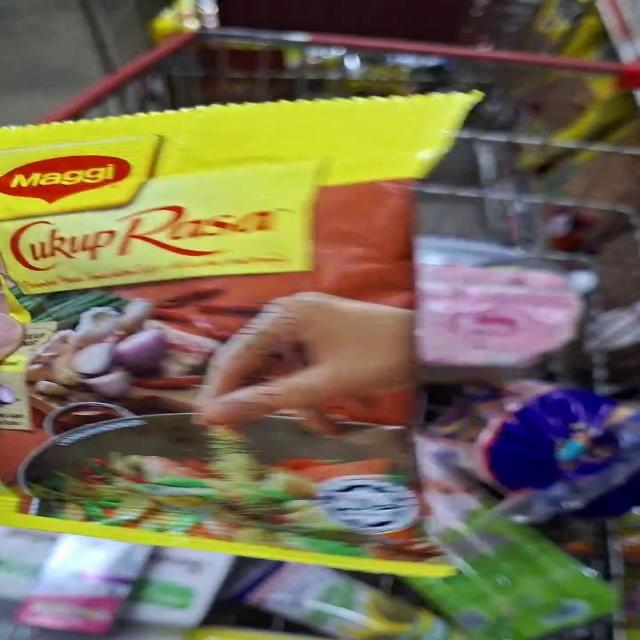Maggi Cukup Rasa: (0, 268, 470, 474), (0, 111, 496, 280), (0, 442, 474, 519)
Tisu: (170, 540, 237, 635)
Ubat Gigi: (13, 525, 158, 634)
